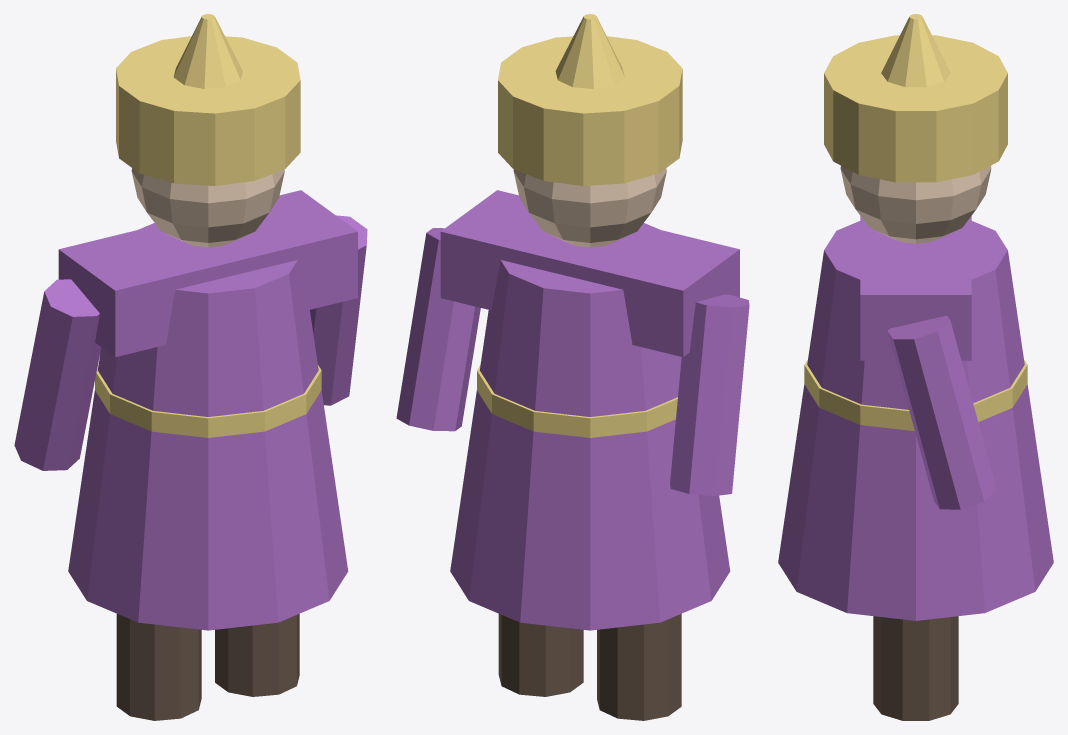
File: npc_padishah.glb
3 renders of one model, left to right at view 1: azimuth 30°, elevation 25°; view 2: azimuth 150°, elevation 25°; view 3: azimuth 270°, elevation 25°, orthographic.
Parts seen in each view (by area): view 1: Tunic, Turban, Shoulders, ArmL, BootL, Head, BootR, Sash, ArmR, CrownTip; view 2: Tunic, Turban, Shoulders, ArmL, ArmR, BootL, Head, BootR, Sash, CrownTip; view 3: Tunic, Turban, ArmR, Shoulders, BootR, Head, Sash, CrownTip.
Part boxes in pixels (bbox=[...]): Tunic: bbox=[68, 223, 348, 630]; Turban: bbox=[116, 36, 300, 185]; Shoulders: bbox=[58, 190, 357, 357]; ArmL: bbox=[14, 279, 101, 470]; BootL: bbox=[116, 614, 201, 720]; Head: bbox=[131, 168, 284, 247]; BootR: bbox=[215, 614, 299, 696]; Sash: bbox=[95, 365, 321, 437]; ArmR: bbox=[310, 215, 367, 405]; CrownTip: bbox=[173, 14, 242, 88]; Tunic: bbox=[450, 223, 730, 630]; Turban: bbox=[498, 36, 682, 185]; Shoulders: bbox=[440, 190, 739, 356]; ArmL: bbox=[670, 294, 749, 495]; ArmR: bbox=[396, 228, 480, 431]; BootL: bbox=[597, 614, 681, 720]; Head: bbox=[513, 168, 666, 247]; BootR: bbox=[498, 614, 583, 696]; Sash: bbox=[477, 365, 677, 437]; CrownTip: bbox=[555, 14, 624, 88]; Tunic: bbox=[778, 221, 1053, 620]; Turban: bbox=[824, 35, 1007, 182]; ArmR: bbox=[887, 315, 996, 509]; Shoulders: bbox=[860, 216, 971, 360]; BootR: bbox=[873, 616, 958, 720]; Head: bbox=[840, 166, 991, 243]; Sash: bbox=[804, 359, 1027, 431]; CrownTip: bbox=[881, 14, 950, 87].
Bounding box in the file's own units: 1.14 × 2.23 × 0.84.
